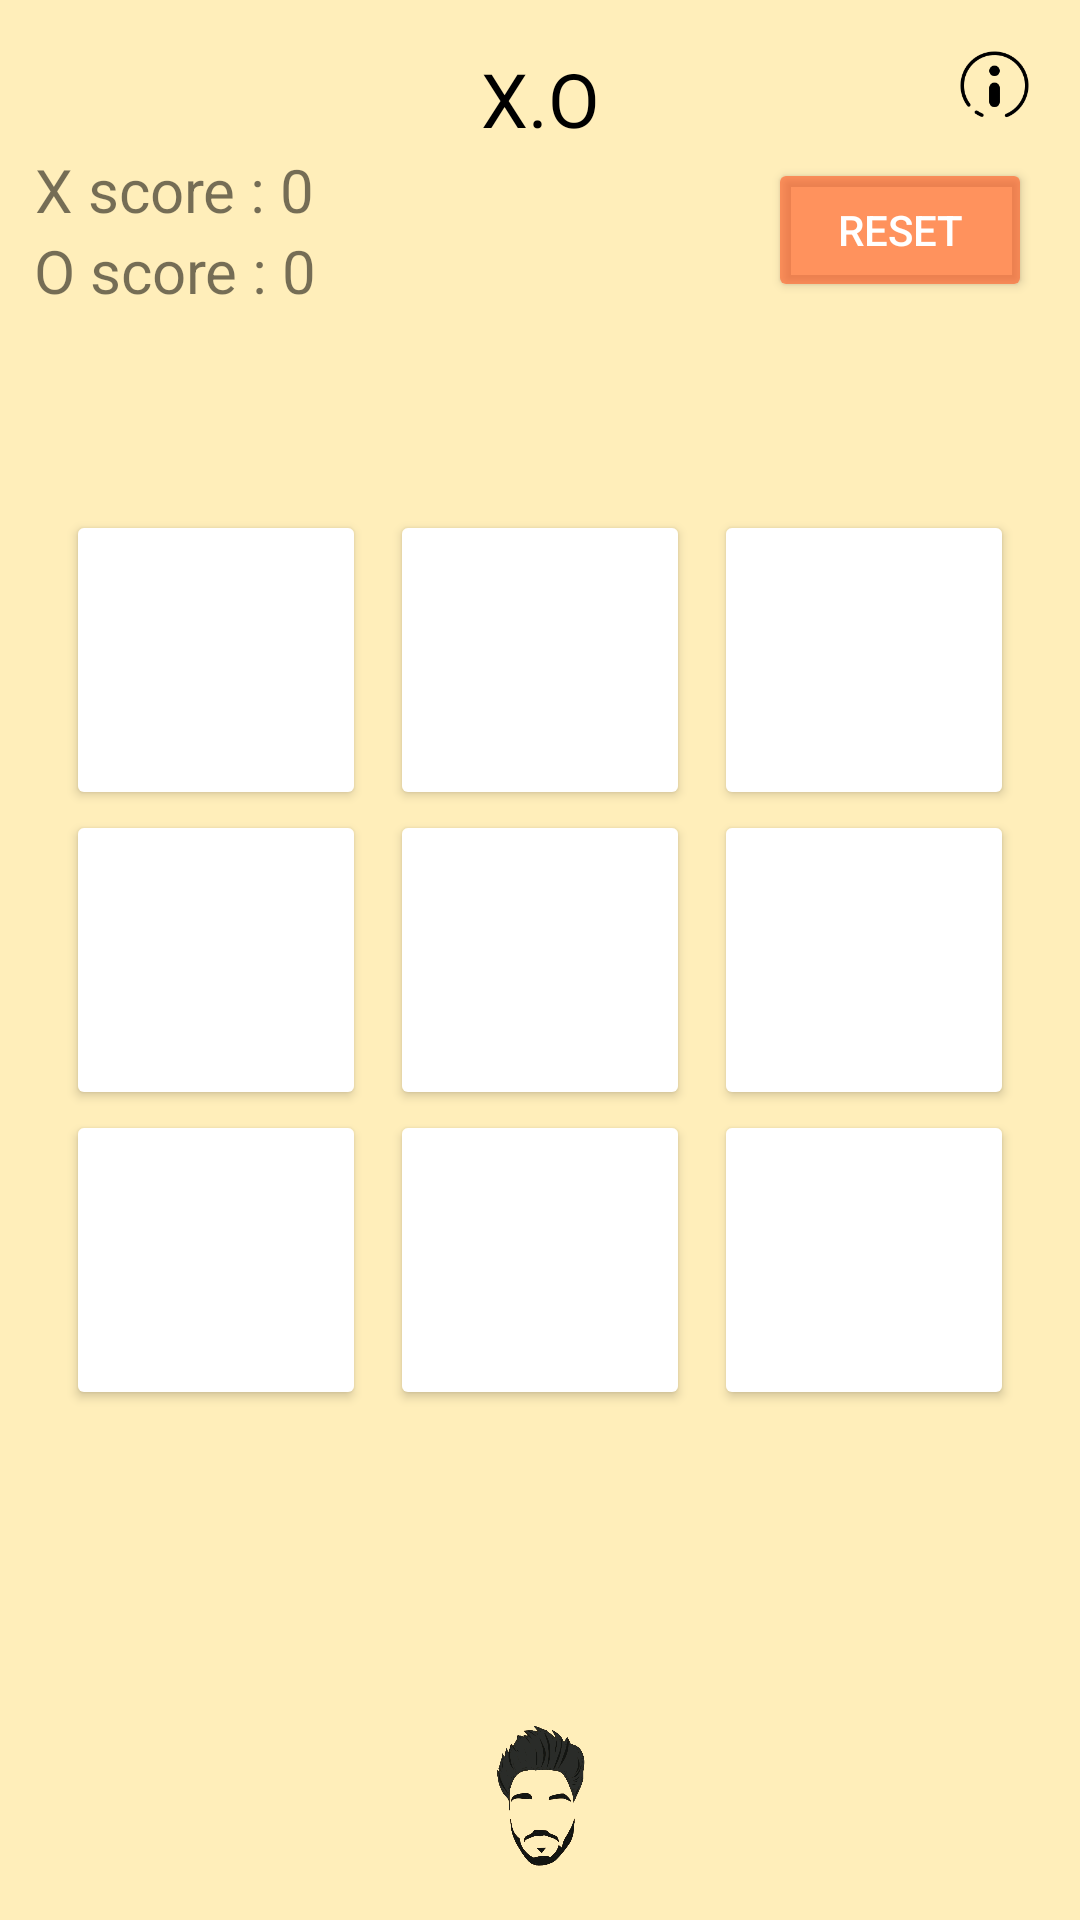

Screen size 1080*1920. Icon name, then its box in pixels as [x1, y1, x2, y2]:
info: [960, 51, 1029, 117]
